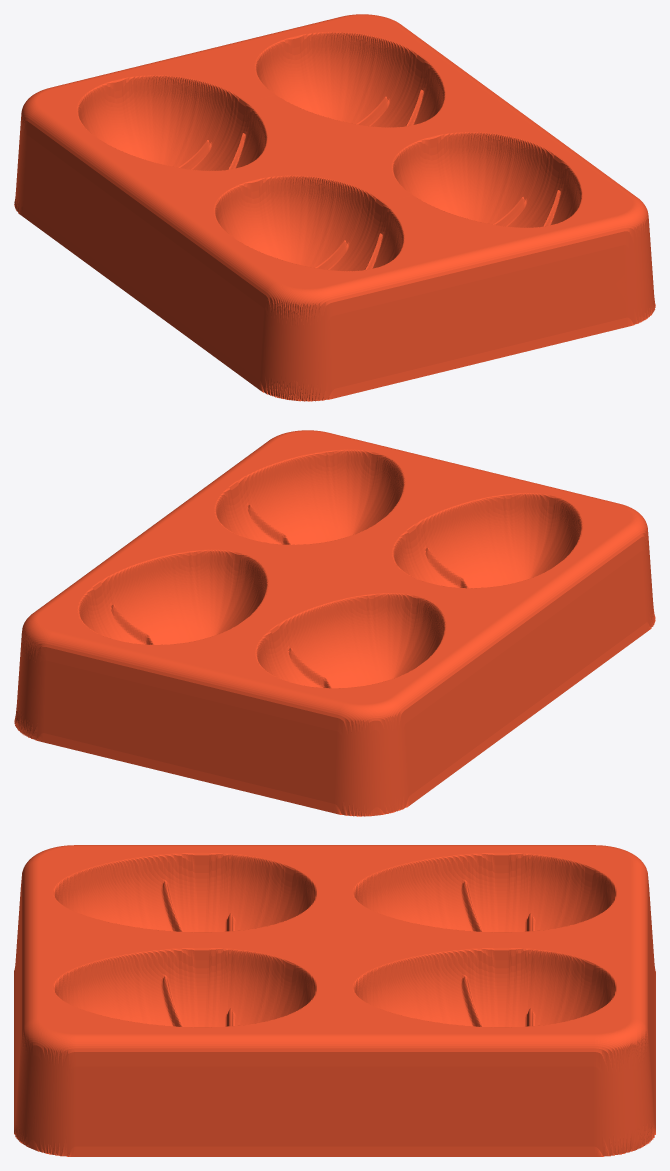
File: mold.glb
The picture shows the model from 3 angles, top to bottom: view 1: azimuth 30°, elevation 25°; view 2: azimuth 150°, elevation 25°; view 3: azimuth 270°, elevation 25°; orthographic projection. The views are drawn at different scales.
Parts seen in each view (by area): view 1: geometry_0; view 2: geometry_0; view 3: geometry_0.
Boxes of the visible parts, x1=… form: geometry_0: x1=14, y1=14, x2=655, y2=401; geometry_0: x1=14, y1=430, x2=655, y2=816; geometry_0: x1=14, y1=845, x2=655, y2=1156.
Size of the model in its own units: 0.0722 by 0.0182 by 0.0942.
